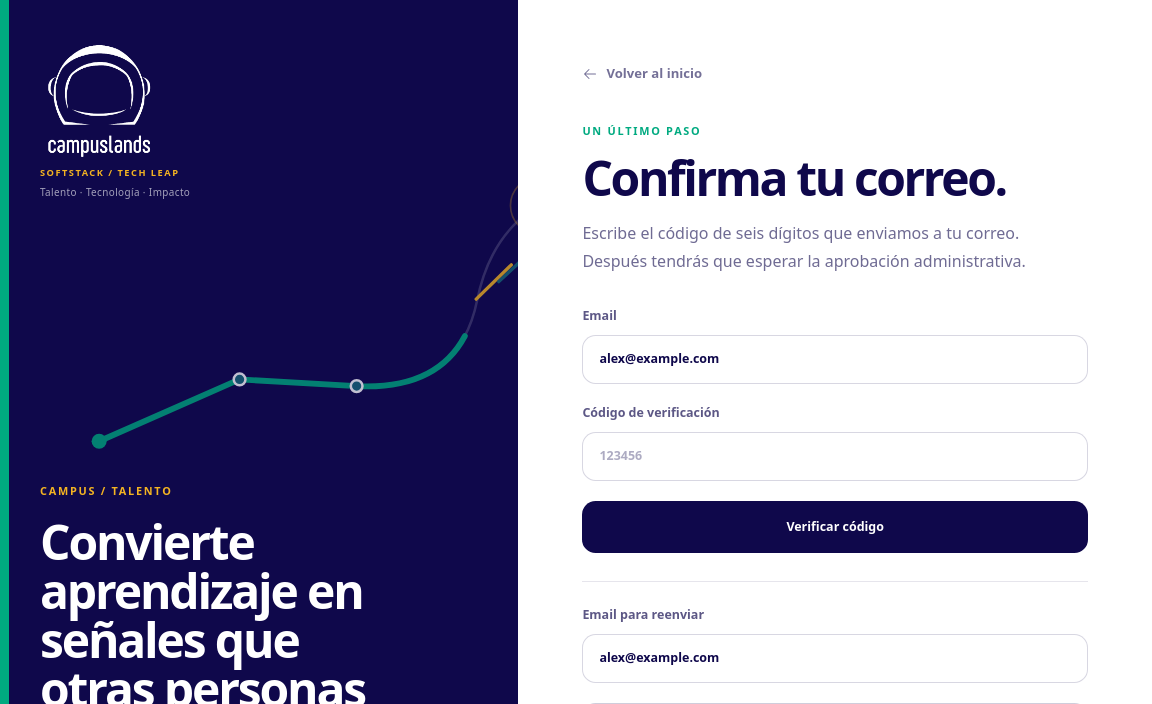
Test: student academic profile forms › verifies only the six-digit code, strips non-digits and clears it after success
Step 1. Type "12abc3456789" into the field labelled "Código de verificación" → (835, 456), box [582,432,1088,481]
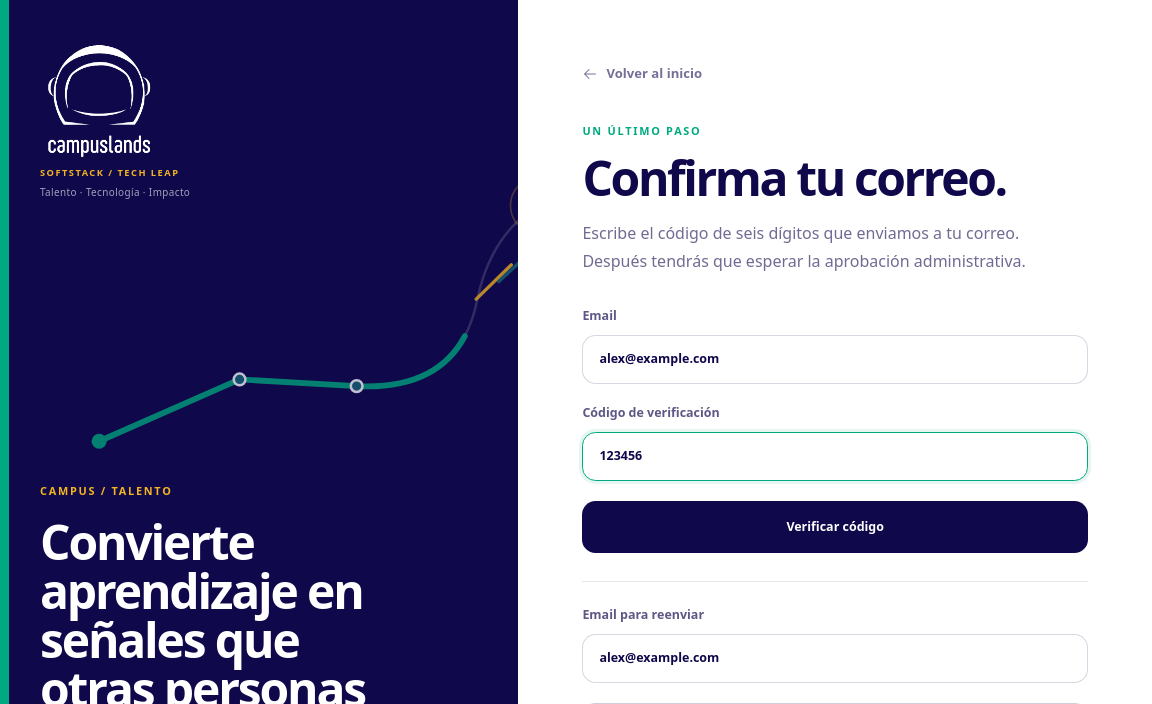
Now the field labelled "Código de verificación" holds "123456", box [582,432,1088,481]
Step 2. Click the button "Verificar código" → (835, 527), box [582,501,1088,553]
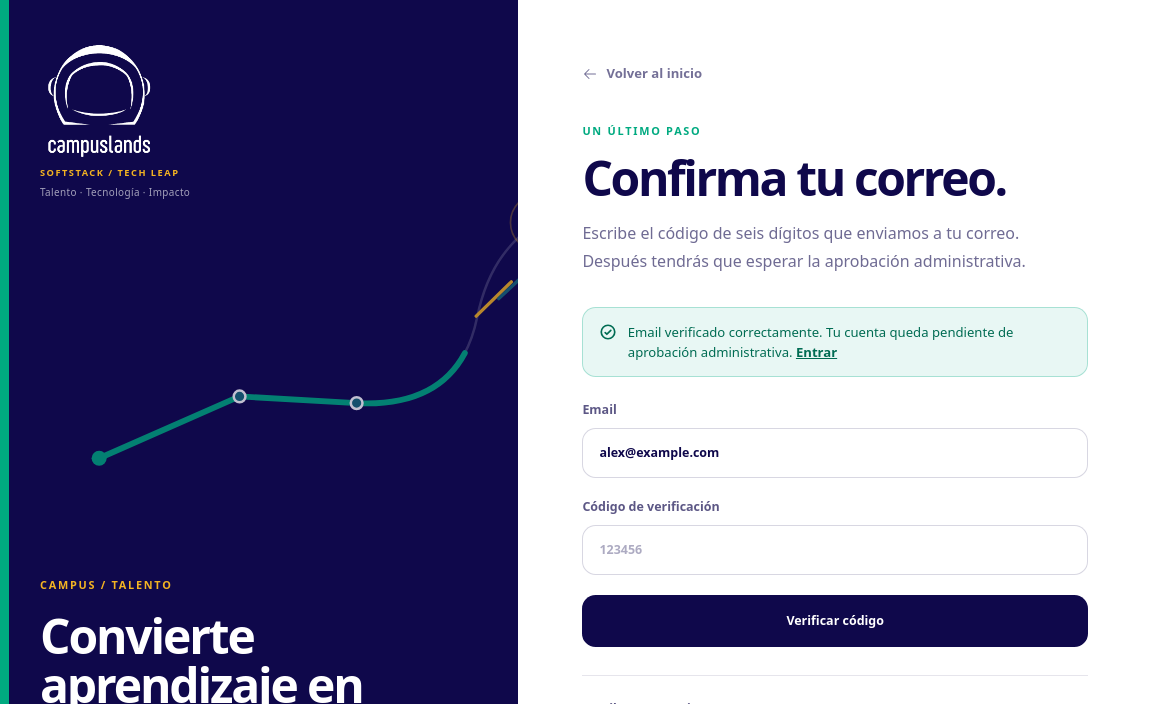
Now the field labelled "Código de verificación" is empty, box [582,526,1088,575]
Now the message shows "Email verificado correctamente.", box [628,323,823,341]
